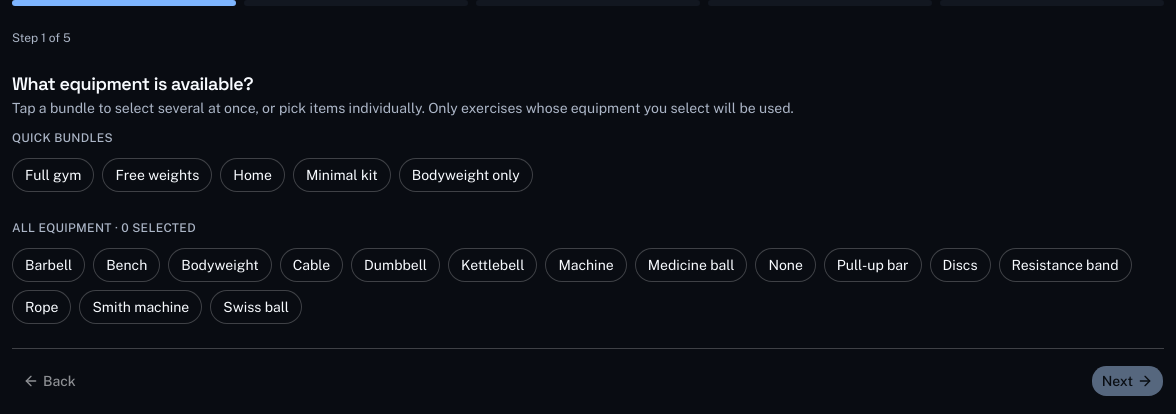
Test: WorkoutGeneratorWizard — the steps › will not advance past step 1 with no equipment picked
This screenshot has width=1176, height=414.
Expected: the button "Next" is disabled, [1091, 365, 1164, 397]
What coordinates should you click on to do the following:
click the button "Barbell"
I would click on:
 (49, 265)
Its box is [12, 248, 85, 282].
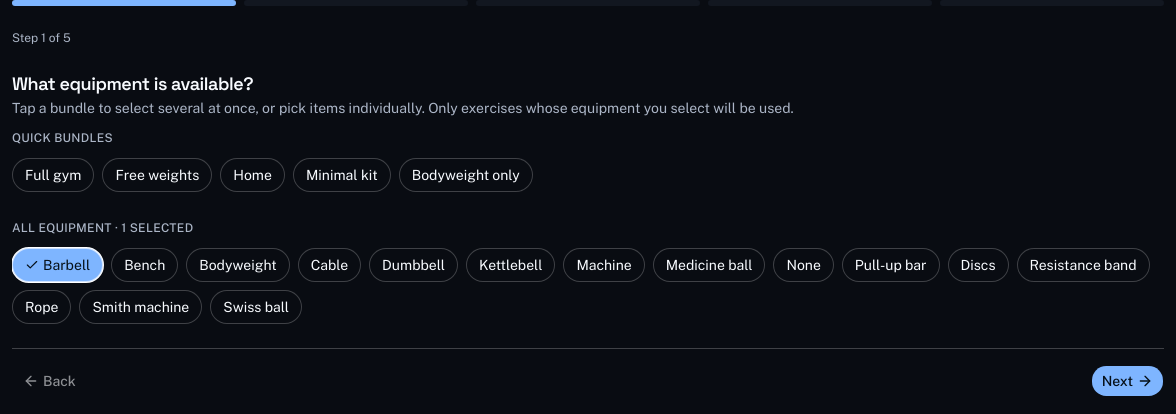
Result: the button "Next" is enabled at [1091, 365, 1164, 397]
